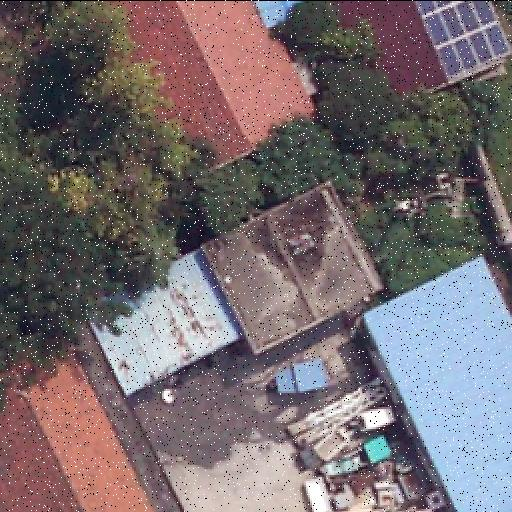solar-panel: (414, 0, 510, 80)
